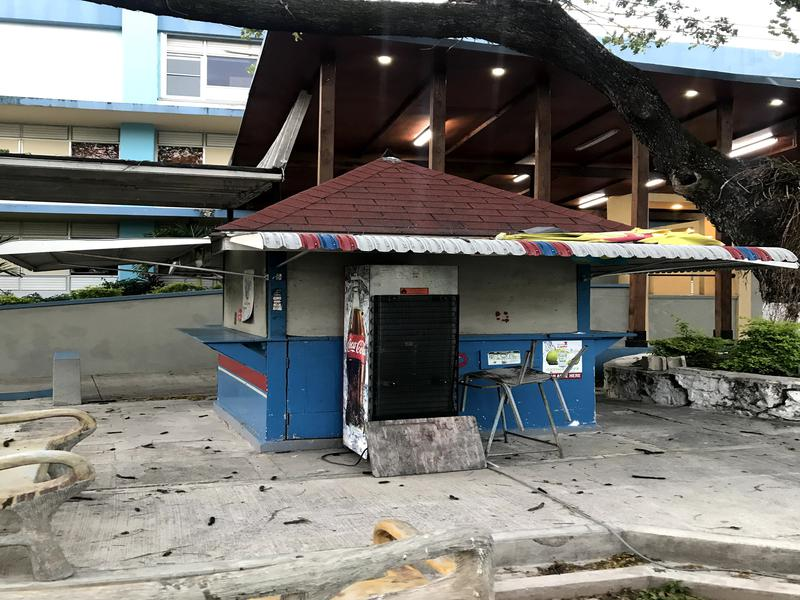18.0051667_-76.74944412_librarystall: (220, 146, 637, 451)
